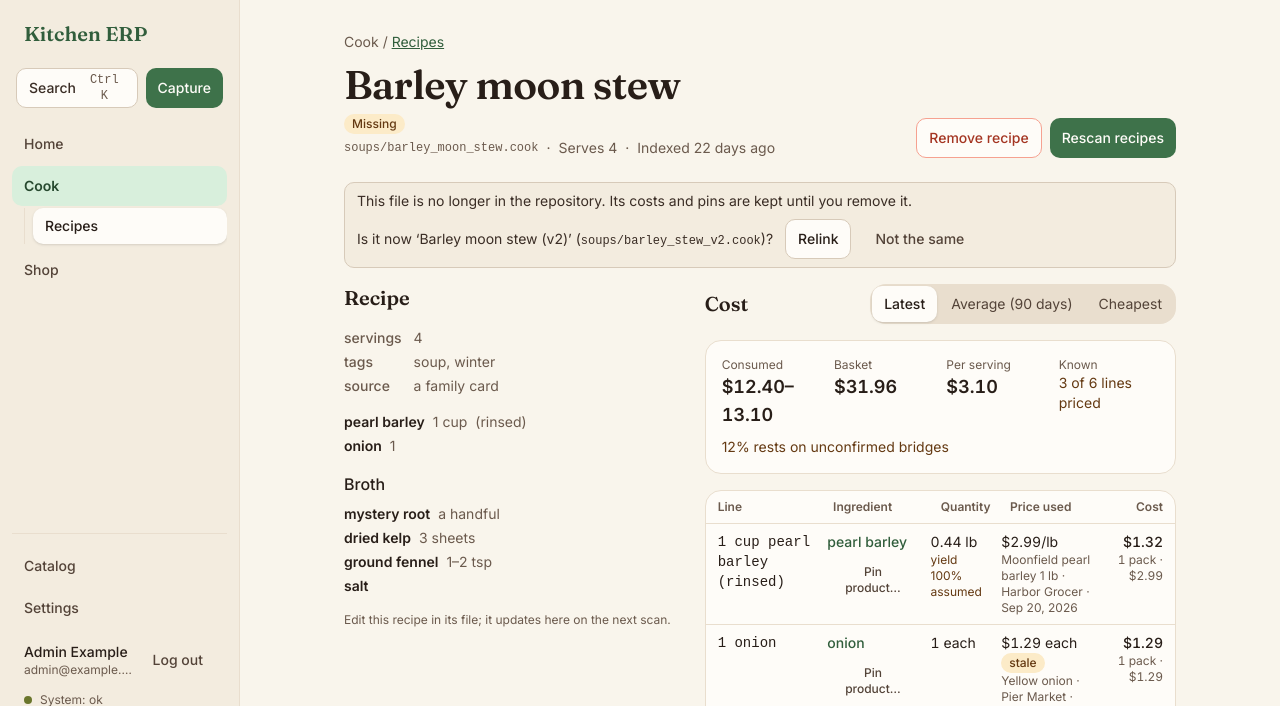
parse errors and missing files (UI-7.15) › relinks on confirm
This screenshot has width=1280, height=706.
Click the button "Relink": click(818, 239) [785,219,852,259]
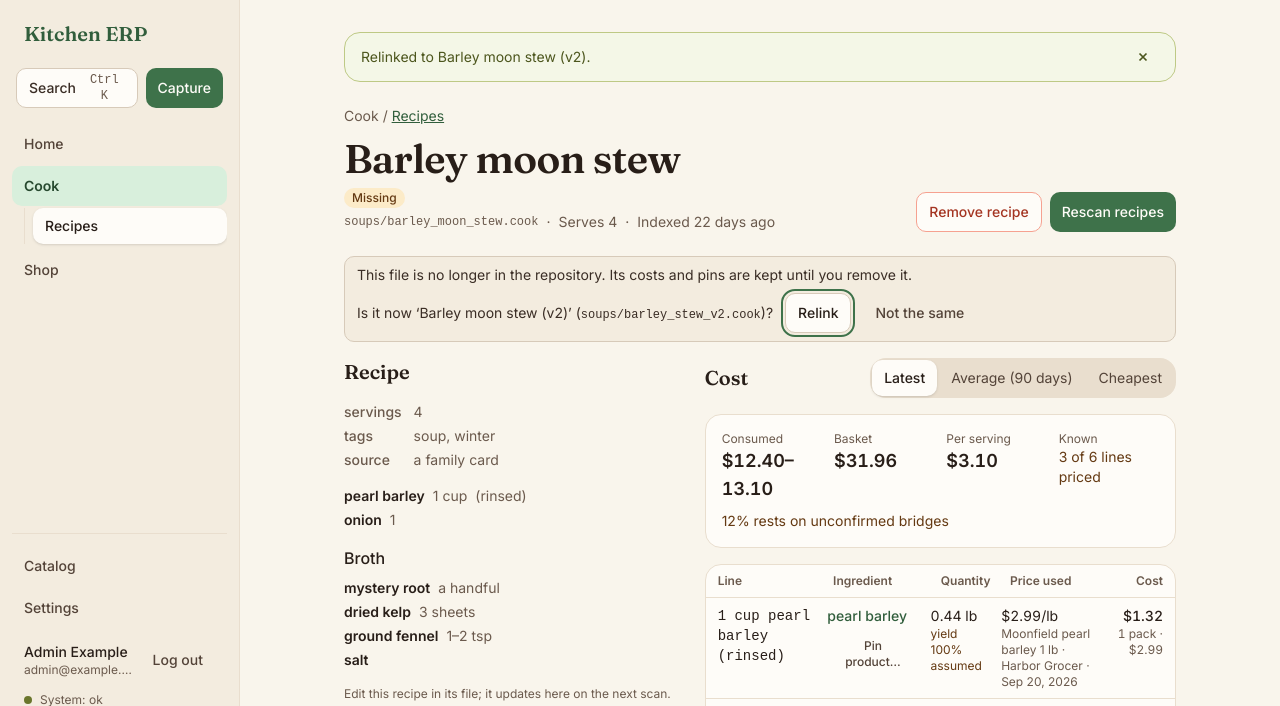
Result: the message with test id "notice" reads "Relinked to Barley moon stew (v2)." at [361,48,590,65]
